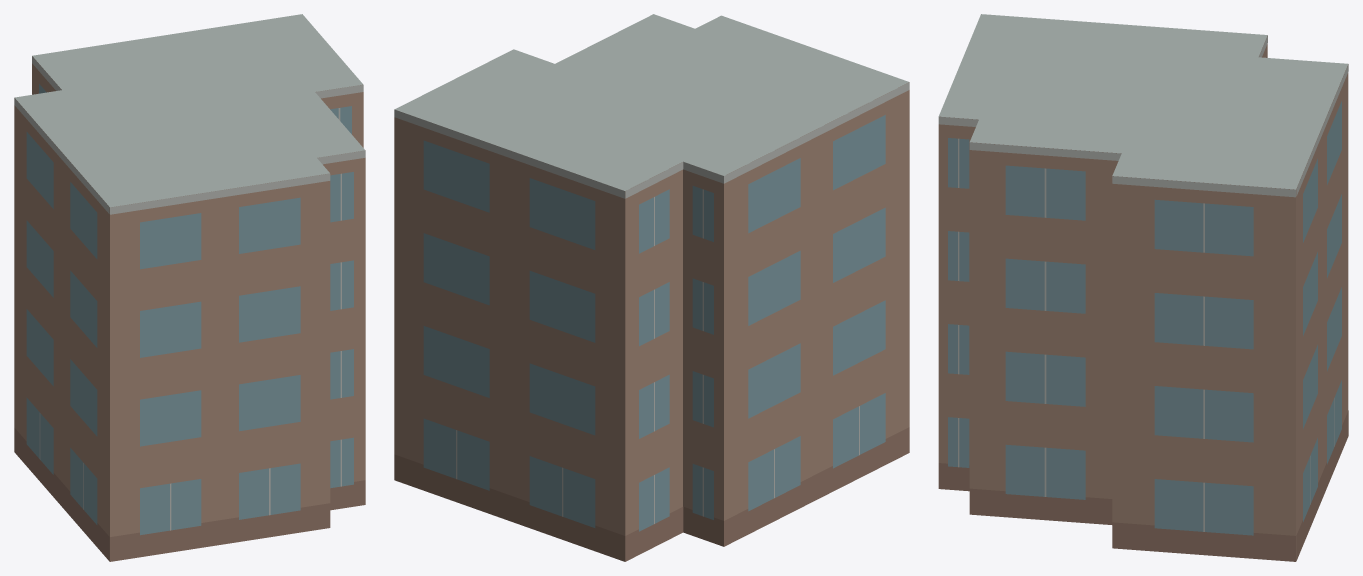
The model's file is survey-upis-33047159.glb.
3 views of the same model, side by side, from view 1: azimuth 30°, elevation 25°; view 2: azimuth 150°, elevation 25°; view 3: azimuth 270°, elevation 25° (orthographic). The views are drawn at different scales.
Parts seen in each view (by area): view 1: survey-upis-33047159.tmp; view 2: survey-upis-33047159.tmp; view 3: survey-upis-33047159.tmp.
Part boxes in pixels (x1=…): survey-upis-33047159.tmp: x1=14, y1=14, x2=365, y2=561; survey-upis-33047159.tmp: x1=394, y1=14, x2=909, y2=561; survey-upis-33047159.tmp: x1=938, y1=14, x2=1348, y2=561.
Size of the model in its own units: 11.84 by 11.7 by 11.68.
